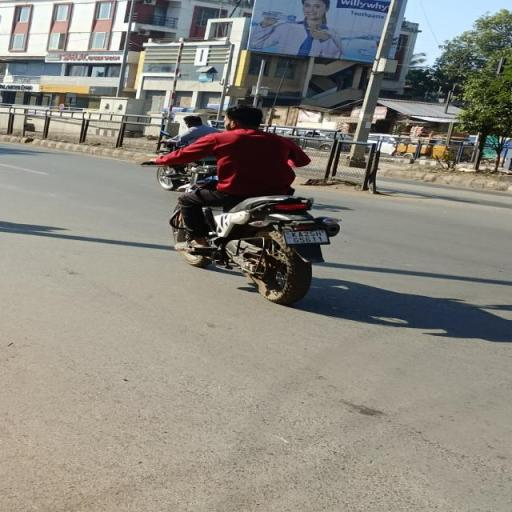bike: (138, 102, 350, 304)
numberplate: (283, 229, 330, 246)
withouthelmet: (224, 106, 266, 130)
